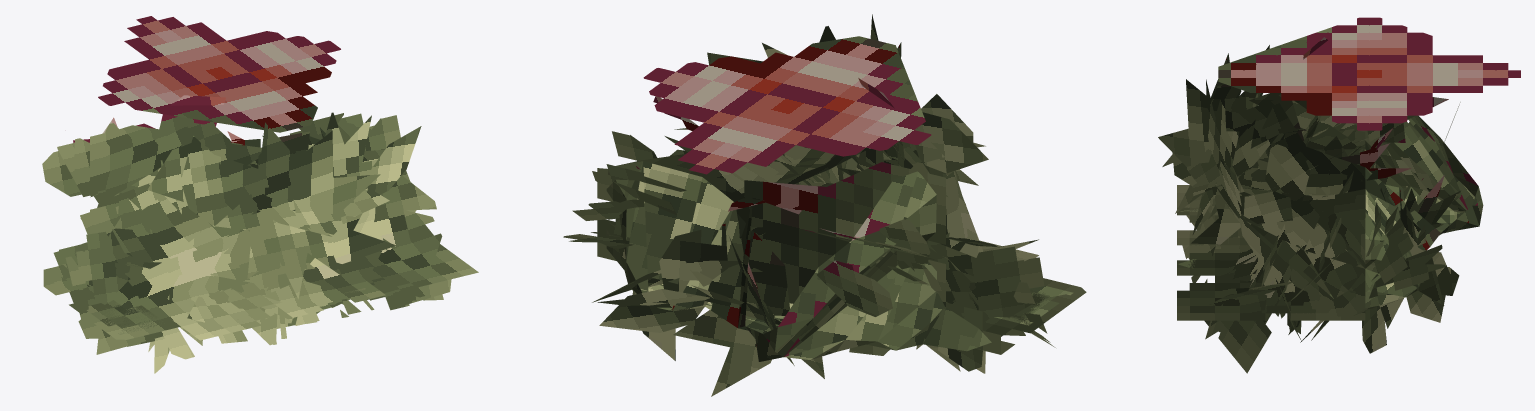
File: flower_901_cut_far.glb
3 views of the same model, side by side, from view 1: azimuth 30°, elevation 25°; view 2: azimuth 150°, elevation 25°; view 3: azimuth 270°, elevation 25° (orthographic). The views are drawn at different scales.
Visible parts, largest first — view 1: flower_901_cut_lod1; view 2: flower_901_cut_lod1; view 3: flower_901_cut_lod1.
Part boxes in pixels (x1=…): flower_901_cut_lod1: x1=42, y1=16, x2=478, y2=373; flower_901_cut_lod1: x1=563, y1=14, x2=1086, y2=396; flower_901_cut_lod1: x1=1158, y1=17, x2=1520, y2=373.
Size of the model in its own units: 0.6055 by 0.3365 by 0.4404.
Materials: 1 (1 with a texture image).
